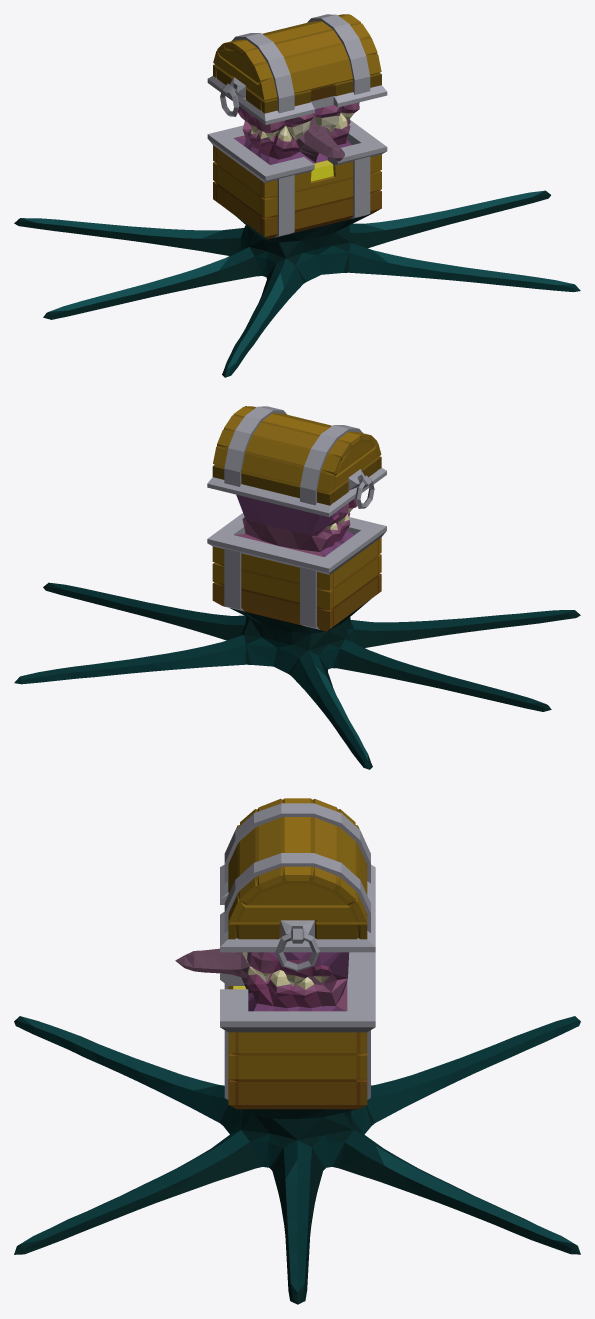
The model's file is mimic.gltf.
3 renders of one model, top to bottom at view 1: azimuth 30°, elevation 25°; view 2: azimuth 150°, elevation 25°; view 3: azimuth 270°, elevation 25°, orthographic. The views are drawn at different scales.
Size of the model in its own units: 1337 by 570 by 961.
1 material, 1 textured.
